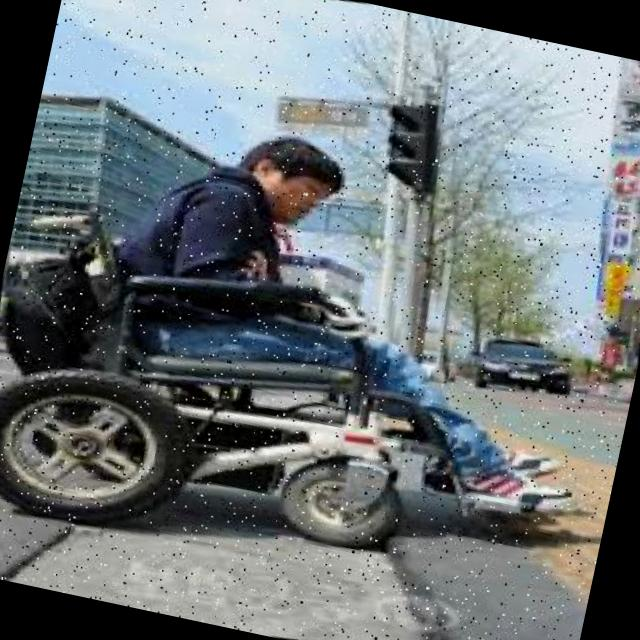Person: (0, 61, 631, 630)
